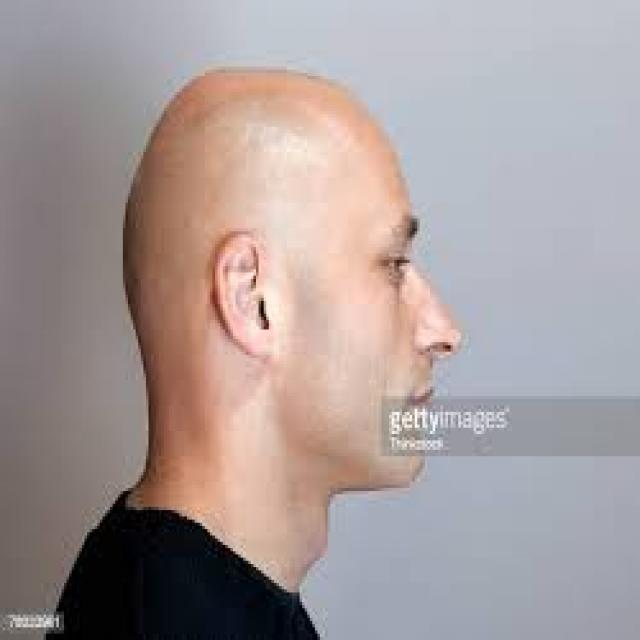bald: (100, 55, 435, 314)
